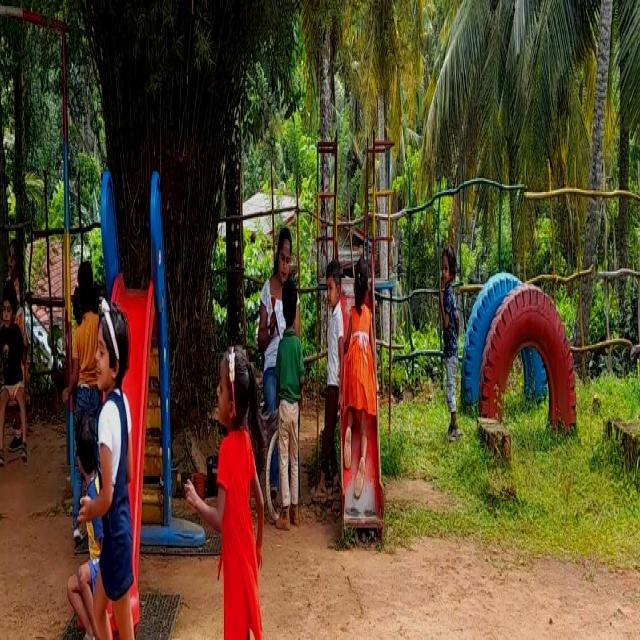child: (98, 298, 144, 640), (226, 328, 264, 640), (272, 274, 308, 542), (346, 249, 382, 472), (437, 231, 462, 428), (0, 281, 21, 440)
